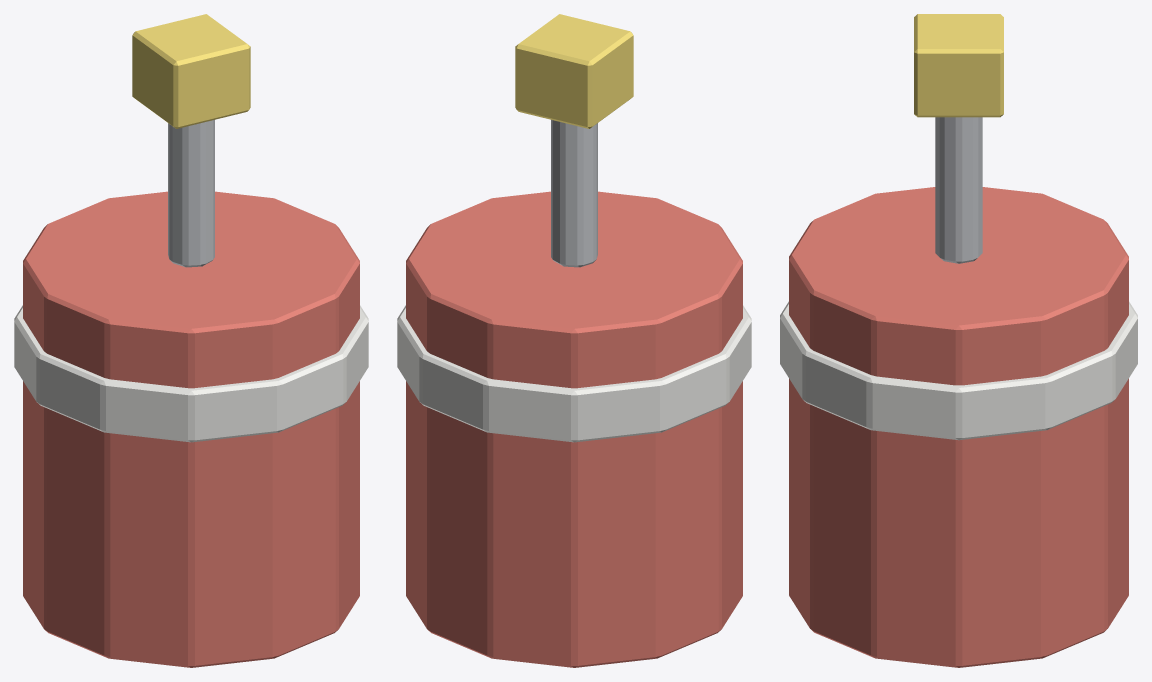
3 renders of one model, left to right at view 1: azimuth 30°, elevation 25°; view 2: azimuth 150°, elevation 25°; view 3: azimuth 270°, elevation 25°, orthographic.
Visible parts, largest first — view 1: 浮体, 白环, 顶灯, 灯架; view 2: 浮体, 白环, 顶灯, 灯架; view 3: 浮体, 白环, 顶灯, 灯架.
Boxes of the visible parts, bbox=[...] form: 浮体: bbox=[23, 191, 359, 667]; 白环: bbox=[14, 305, 368, 442]; 顶灯: bbox=[132, 14, 250, 128]; 灯架: bbox=[168, 120, 214, 267]; 浮体: bbox=[406, 191, 742, 667]; 白环: bbox=[397, 305, 751, 442]; 顶灯: bbox=[515, 14, 633, 128]; 灯架: bbox=[551, 120, 597, 267]; 浮体: bbox=[789, 187, 1128, 667]; 白环: bbox=[780, 301, 1137, 440]; 顶灯: bbox=[914, 14, 1003, 117]; 灯架: bbox=[935, 117, 982, 263].
Size of the model in its own units: 199 by 347 by 199.
